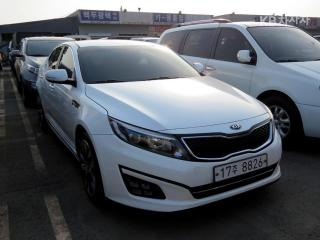1: (219, 167, 226, 179)
2: (253, 158, 258, 169)
6: (258, 157, 263, 168)
7: (226, 165, 232, 176)
8: (242, 161, 247, 172), (248, 159, 253, 170)
plate: (208, 151, 272, 183)
주: (231, 164, 240, 175)
